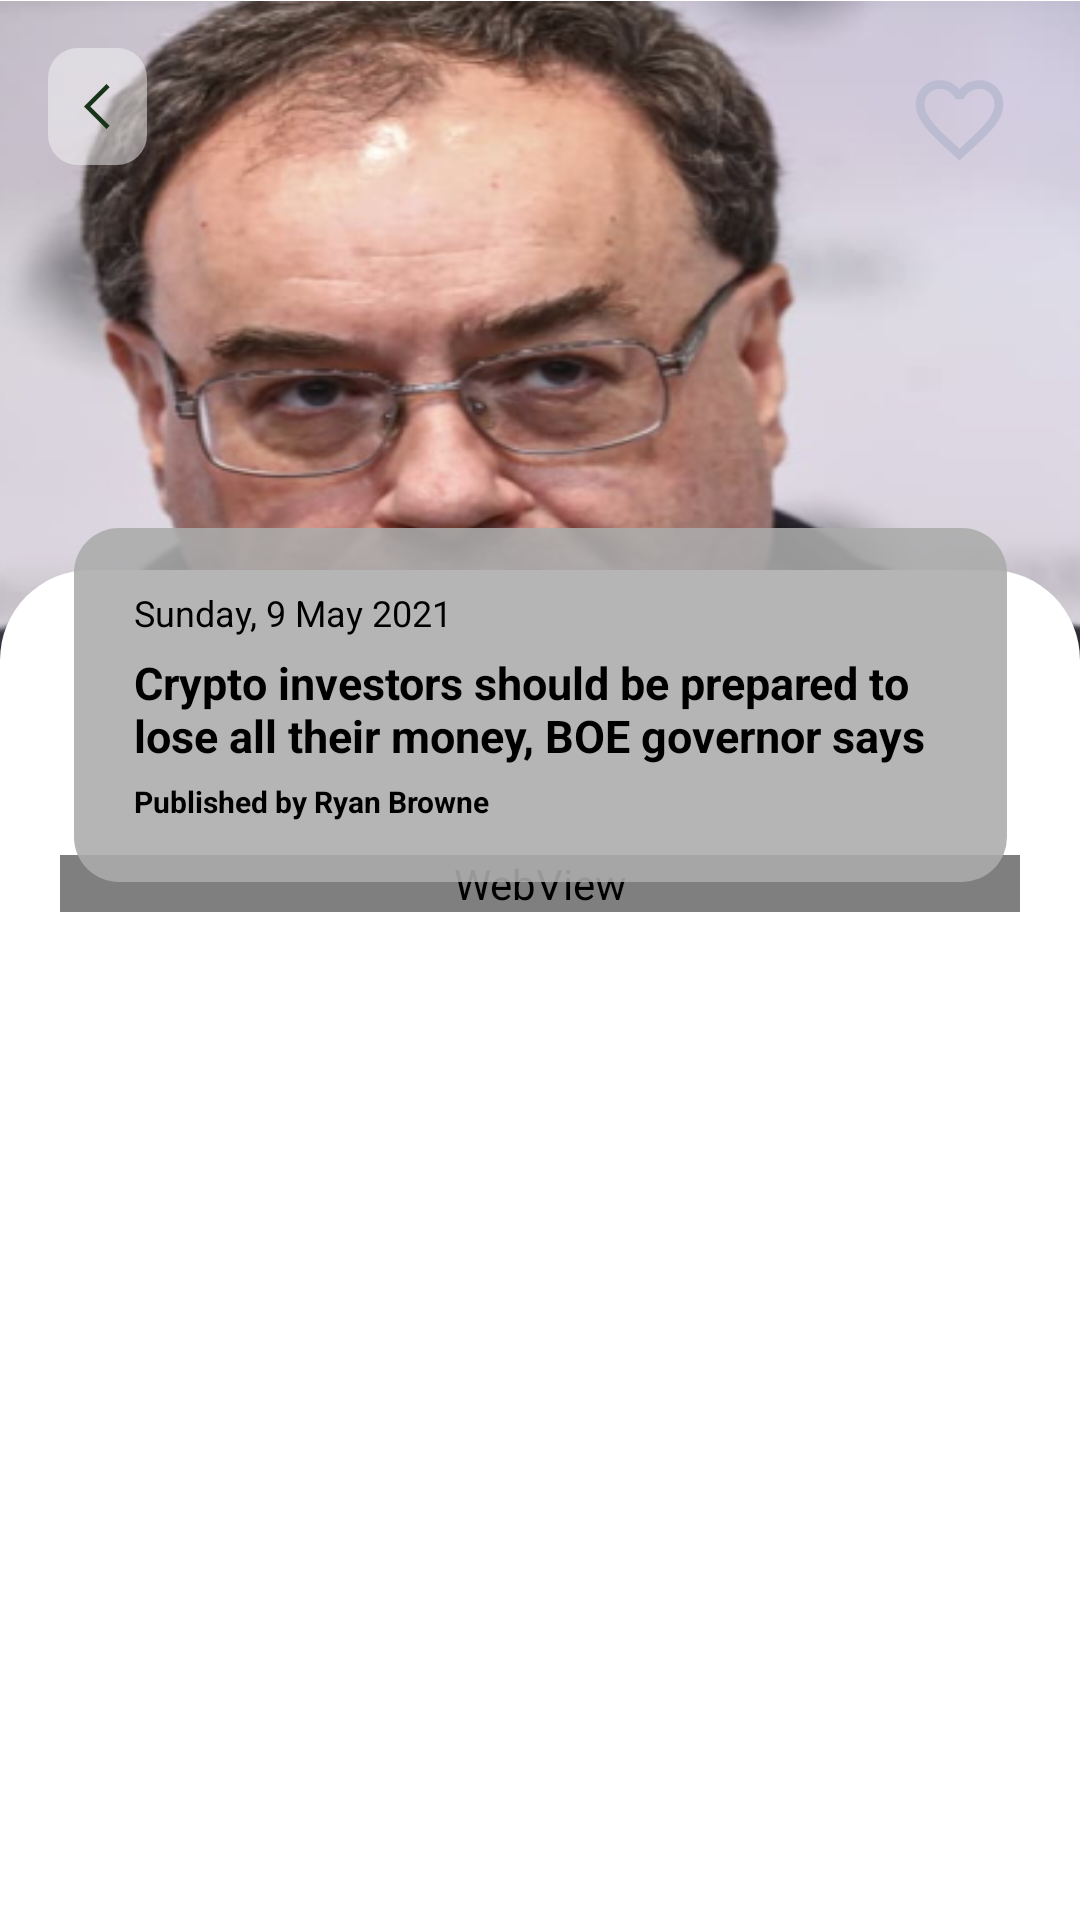

Point at icon controls on the screen. Image size 1080px x 1920px, points as point (x, y).
back: point (97, 106)
